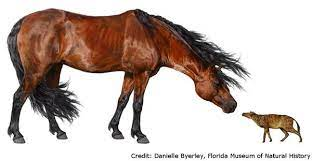Cat: (242, 102, 309, 153)
Horse: (4, 9, 240, 146)
